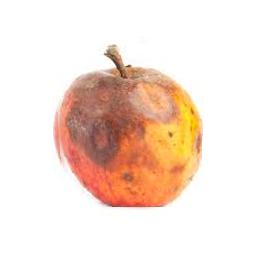Apple Rotten: (54, 44, 203, 207)
